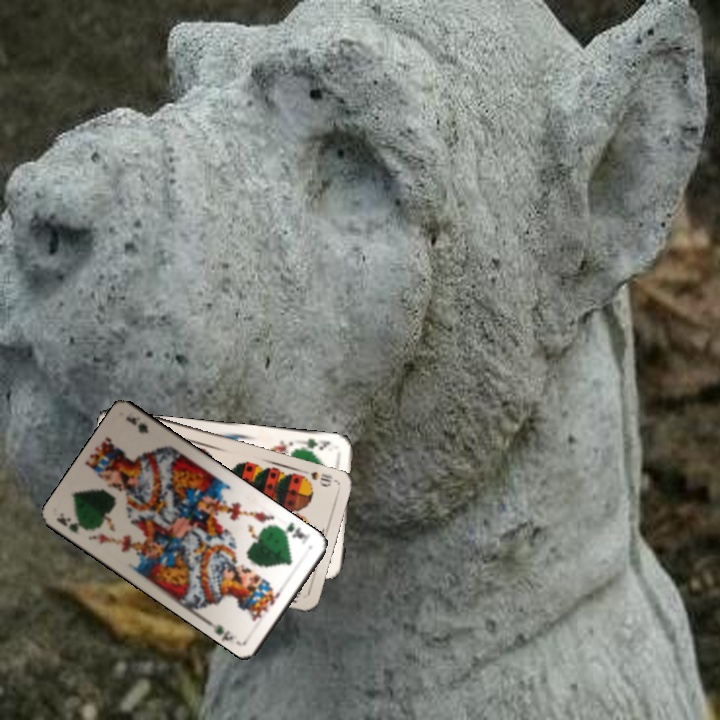GK: (53, 509, 94, 536), (276, 518, 313, 547), (299, 434, 333, 453)
S10: (306, 467, 338, 489)
